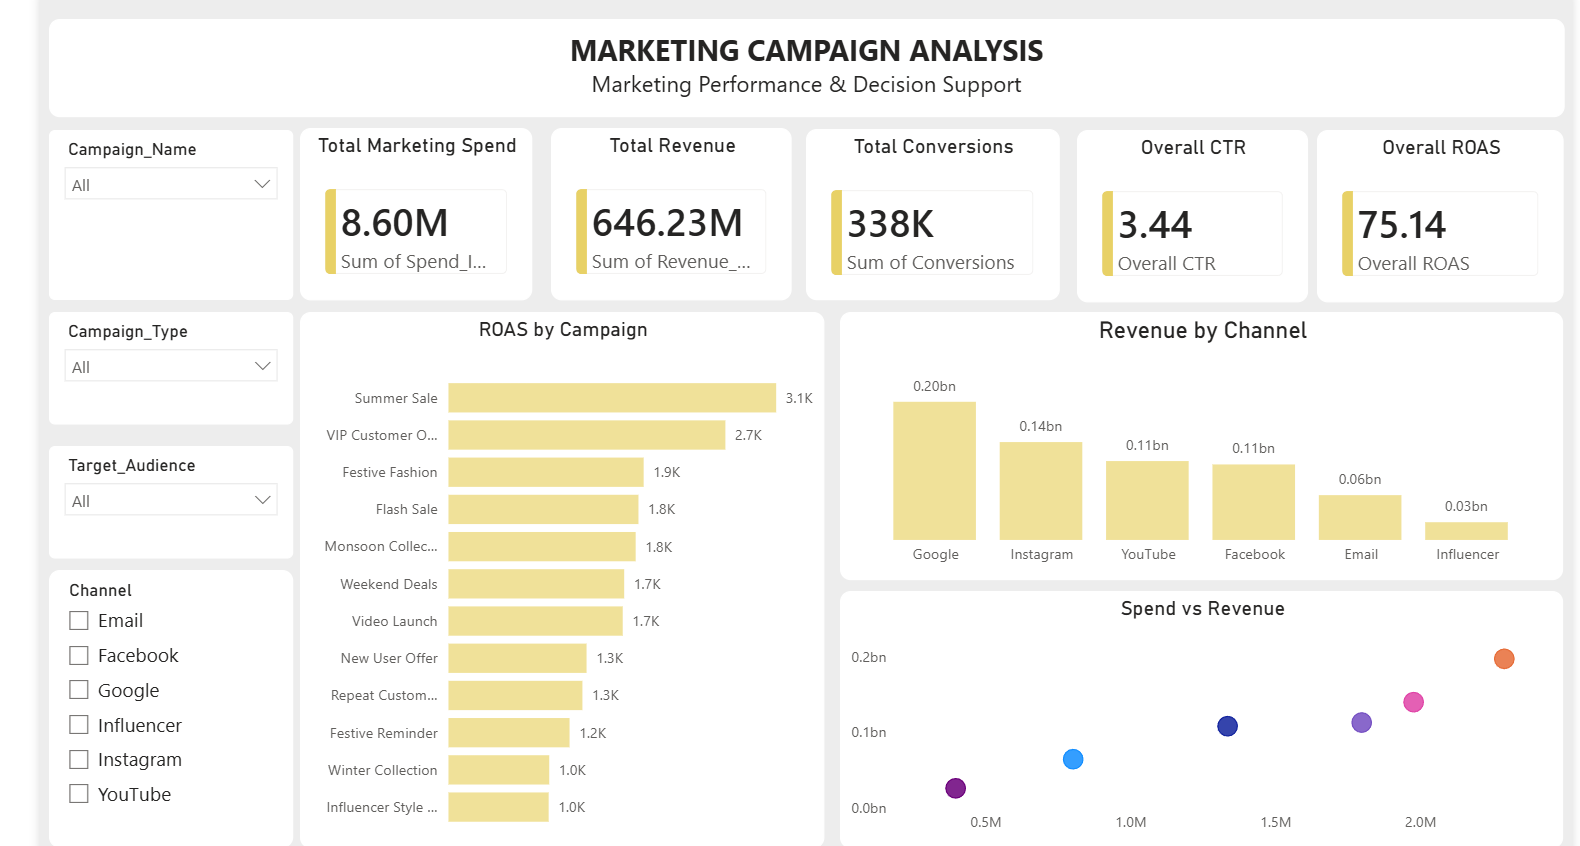

What the dashboard file says about the page in this screenshot:
{"tool":"powerbi","page":{"name":"Executive Overview","canvas":[1280,720],"ordinal":0},"visuals":[{"type":"cardVisual","title":"Total Marketing Spend","fields":{"Data":["Sum(marketing_campaign marketing_analytics.Spend_INR)"]},"box":[217.2,112.2,194.2,143.6],"z":0},{"type":"cardVisual","title":"Total Revenue","fields":{"Data":["Sum(marketing_campaign marketing_analytics.Revenue_INR)"]},"box":[427.1,112.2,201.5,143.6],"z":1000},{"type":"cardVisual","title":"Total Conversions","fields":{"Data":["Sum(marketing_campaign marketing_analytics.Conversions)"]},"box":[639.5,112.5,211.6,143.1],"z":2000},{"type":"cardVisual","title":"Overall CTR","fields":{"Data":["marketing_campaign marketing_analytics.Overall CTR"]},"box":[866.2,113.4,193,143.6],"z":3000},{"type":"cardVisual","title":"Overall ROAS","fields":{"Data":["marketing_campaign marketing_analytics.Overall ROAS"]},"box":[1066.5,113.4,206.3,143.6],"z":4000},{"type":"clusteredColumnChart","title":"Revenue by Channel","fields":{"Category":["marketing_campaign marketing_analytics.Channel"],"Y":["Sum(marketing_campaign marketing_analytics.Revenue_INR)"]},"box":[668.4,265.4,604.4,224.4],"z":5000},{"type":"barChart","title":"ROAS by Campaign","fields":{"Category":["marketing_campaign marketing_analytics.Campaign_Name"],"Y":["Sum(marketing_campaign marketing_analytics.ROAS)"]},"box":[217.2,265.4,437.9,447.6],"z":6000},{"type":"scatterChart","title":"Spend vs Revenue","fields":{"Series":["marketing_campaign marketing_analytics.Channel"],"X":["Sum(marketing_campaign marketing_analytics.Spend_INR)"],"Y":["Sum(marketing_campaign marketing_analytics.Revenue_INR)"]},"box":[668.4,498.3,604.4,214.7],"z":7000},{"type":"slicer","fields":{"Values":["marketing_campaign marketing_analytics.Channel"]},"box":[7.2,481.4,203.9,231.6],"z":8000},{"type":"slicer","fields":{"Values":["marketing_campaign marketing_analytics.Campaign_Name"]},"box":[7.2,113.4,203.9,142.4],"z":9000},{"type":"slicer","fields":{"Values":["marketing_campaign marketing_analytics.Campaign_Type"]},"box":[7.2,265.4,204.2,94.2],"z":10000},{"type":"slicer","fields":{"Values":["marketing_campaign marketing_analytics.Target_Audience"]},"box":[7.2,377.6,204.2,94.2],"z":11000},{"type":"textbox","box":[7.2,20.5,1265.6,82],"z":12000}]}

Visuals, with their boxes on the page's 1280x720 design canvas (x1, y1, x2, y2). These are canvas units, not pixel positions in the 1580x846 screenshot, which may show the page scaled, cropped or inside an application window:
"Total Marketing Spend" cardVisual: 217/112/411/256
"Total Revenue" cardVisual: 427/112/629/256
"Total Conversions" cardVisual: 640/112/851/256
"Overall CTR" cardVisual: 866/113/1059/257
"Overall ROAS" cardVisual: 1066/113/1273/257
"Revenue by Channel" clusteredColumnChart: 668/265/1273/490
"ROAS by Campaign" barChart: 217/265/655/713
"Spend vs Revenue" scatterChart: 668/498/1273/713
slicer - marketing_campaign marketing_analytics.Channel: 7/481/211/713
slicer - marketing_campaign marketing_analytics.Campaign_Name: 7/113/211/256
slicer - marketing_campaign marketing_analytics.Campaign_Type: 7/265/211/360
slicer - marketing_campaign marketing_analytics.Target_Audience: 7/378/211/472
textbox: 7/20/1273/102
